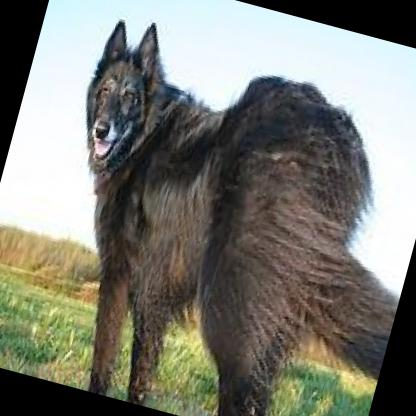groenendael: (10, 7, 416, 416)
